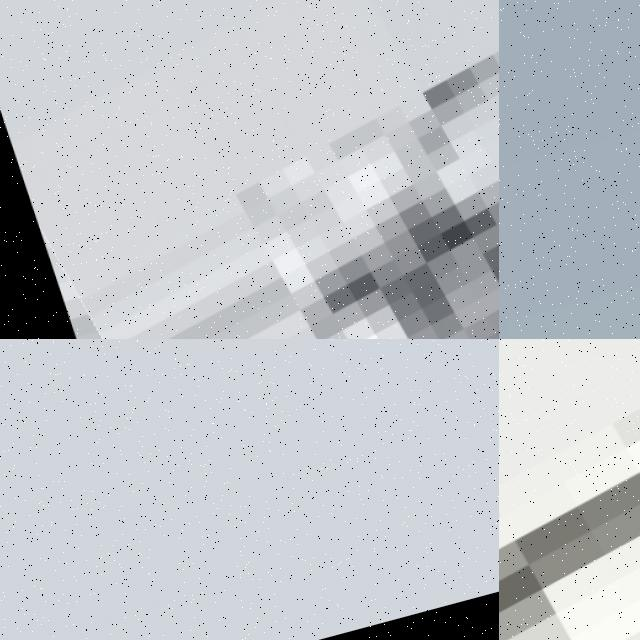0: (0, 0, 499, 339)
drone: (499, 339, 640, 640)
